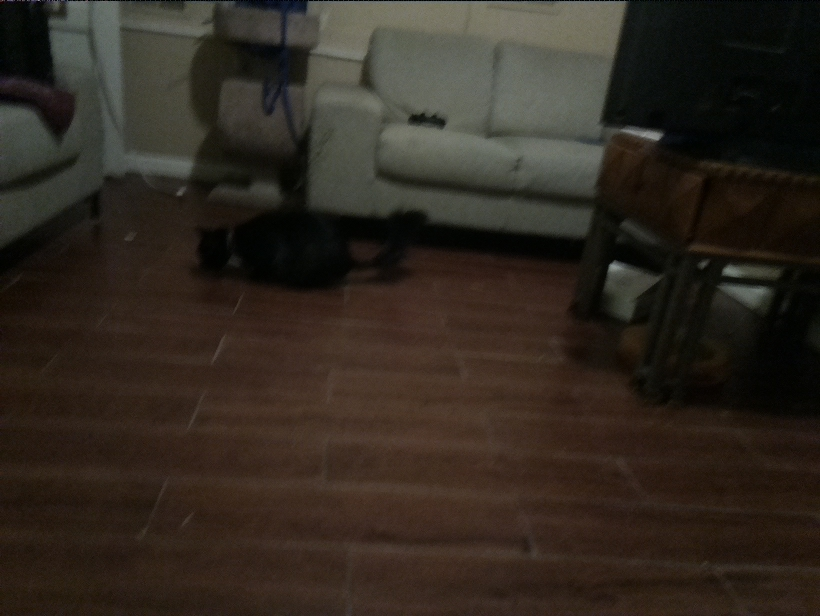cat: (185, 189, 433, 292)
